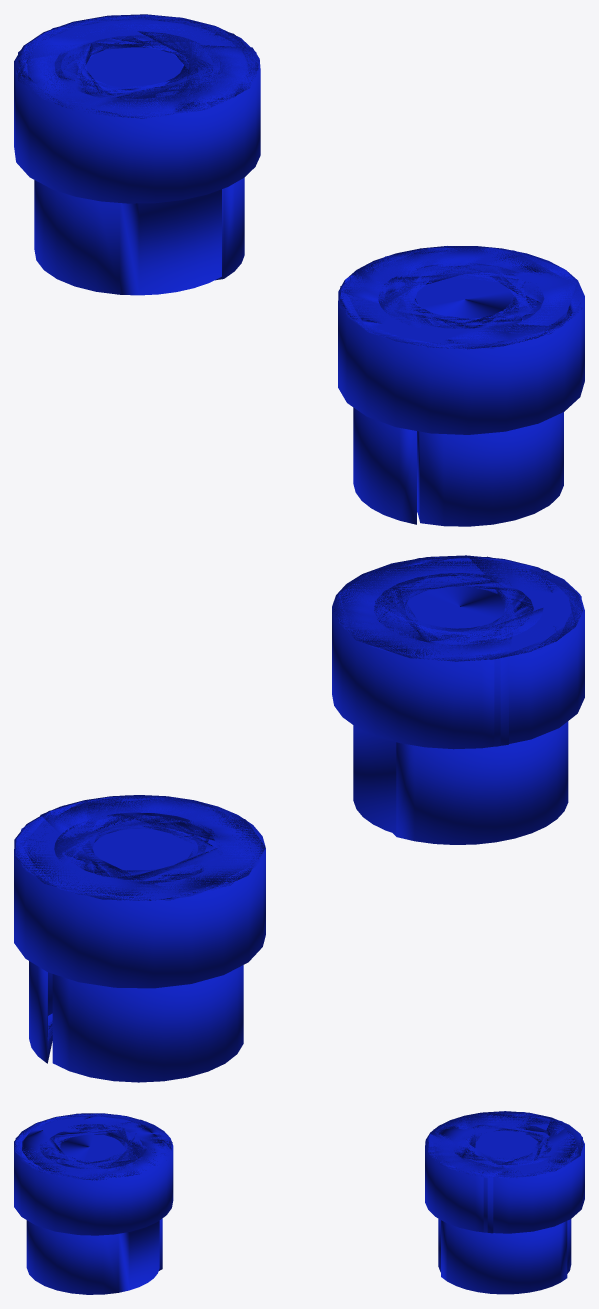
File: tuyeau_element_000012.obj
3 renders of one model, top to bottom at view 1: azimuth 30°, elevation 25°; view 2: azimuth 150°, elevation 25°; view 3: azimuth 270°, elevation 25°, orthographic. The views are drawn at different scales.
Parts seen in each view (by area): view 1: tuyeau2_Cube.017, tuyeau1_Cube.014; view 2: tuyeau2_Cube.017, tuyeau1_Cube.014; view 3: tuyeau1_Cube.014, tuyeau2_Cube.017.
Boxes of the visible parts, x1=… form: tuyeau2_Cube.017: x1=338, y1=246, x2=584, y2=526; tuyeau1_Cube.014: x1=14, y1=14, x2=260, y2=295; tuyeau2_Cube.017: x1=332, y1=555, x2=584, y2=844; tuyeau1_Cube.014: x1=14, y1=795, x2=265, y2=1082; tuyeau1_Cube.014: x1=425, y1=1111, x2=584, y2=1294; tuyeau2_Cube.017: x1=14, y1=1113, x2=173, y2=1294.
Bounding box in the file's own units: 3626 × 2917 × 12573.
